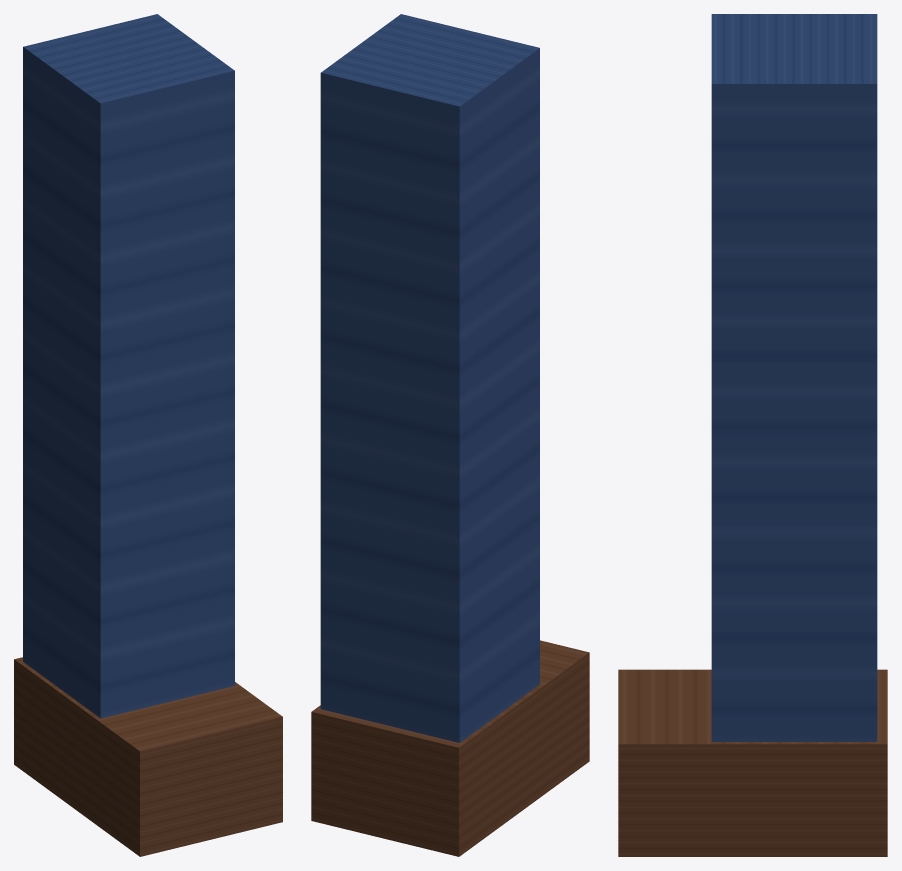
The model's file is caminante_pierna_izq.obj.
The picture shows the model from 3 angles, left to right: view 1: azimuth 30°, elevation 25°; view 2: azimuth 150°, elevation 25°; view 3: azimuth 270°, elevation 25°; orthographic projection. The views are drawn at different scales.
Visible parts, largest first — view 1: caminante_pierna_izq; view 2: caminante_pierna_izq; view 3: caminante_pierna_izq.
Part boxes in pixels (box(x1,y1,x2,y2)): caminante_pierna_izq: box(14, 14, 282, 856); caminante_pierna_izq: box(311, 14, 589, 856); caminante_pierna_izq: box(618, 14, 887, 856).
Size of the model in its own units: 0.085 by 0.41 by 0.13.
1 material, 1 textured.
